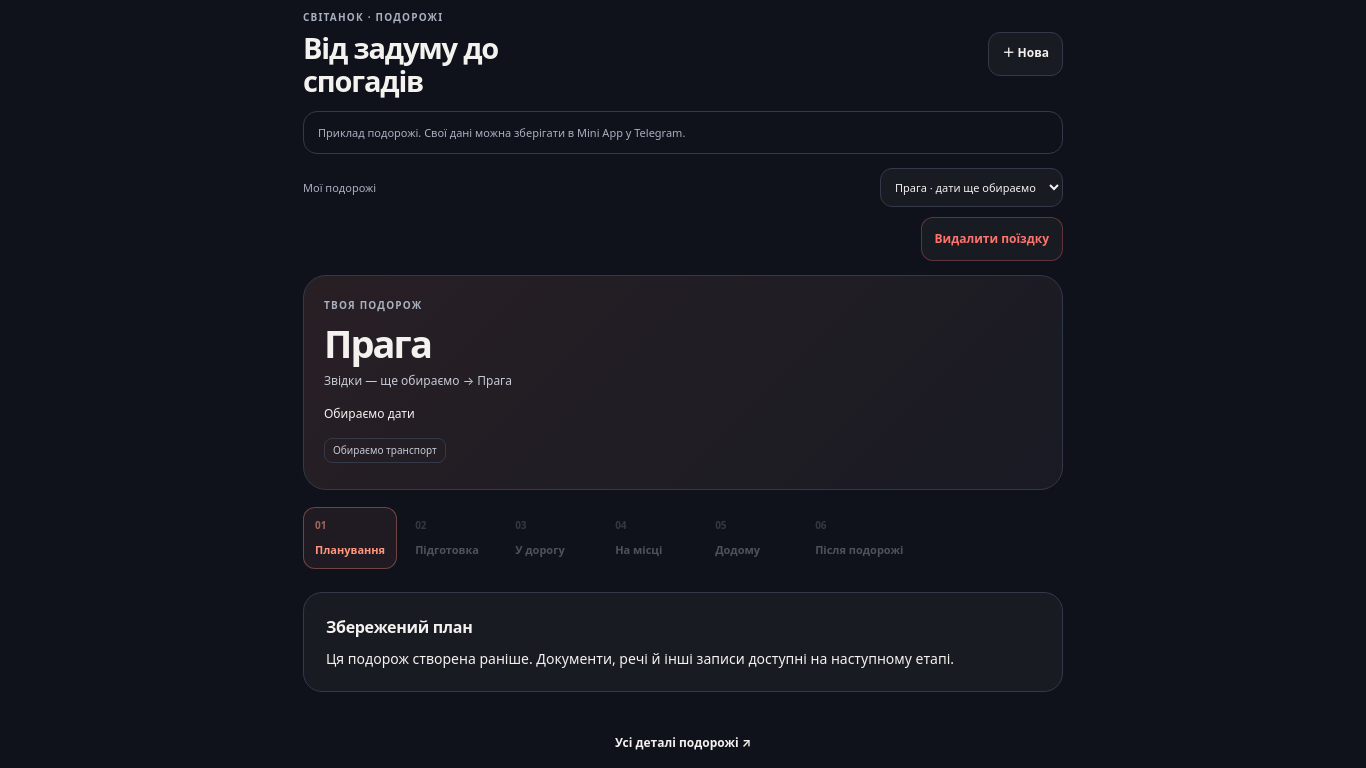
Scenario: deleting a trip from Mini App › requires confirmation, leaves a draft when dismissed and deletes it when confirmed
Click the button "Видалити поїздку": (992, 239) left=920, top=217, right=1063, bottom=261
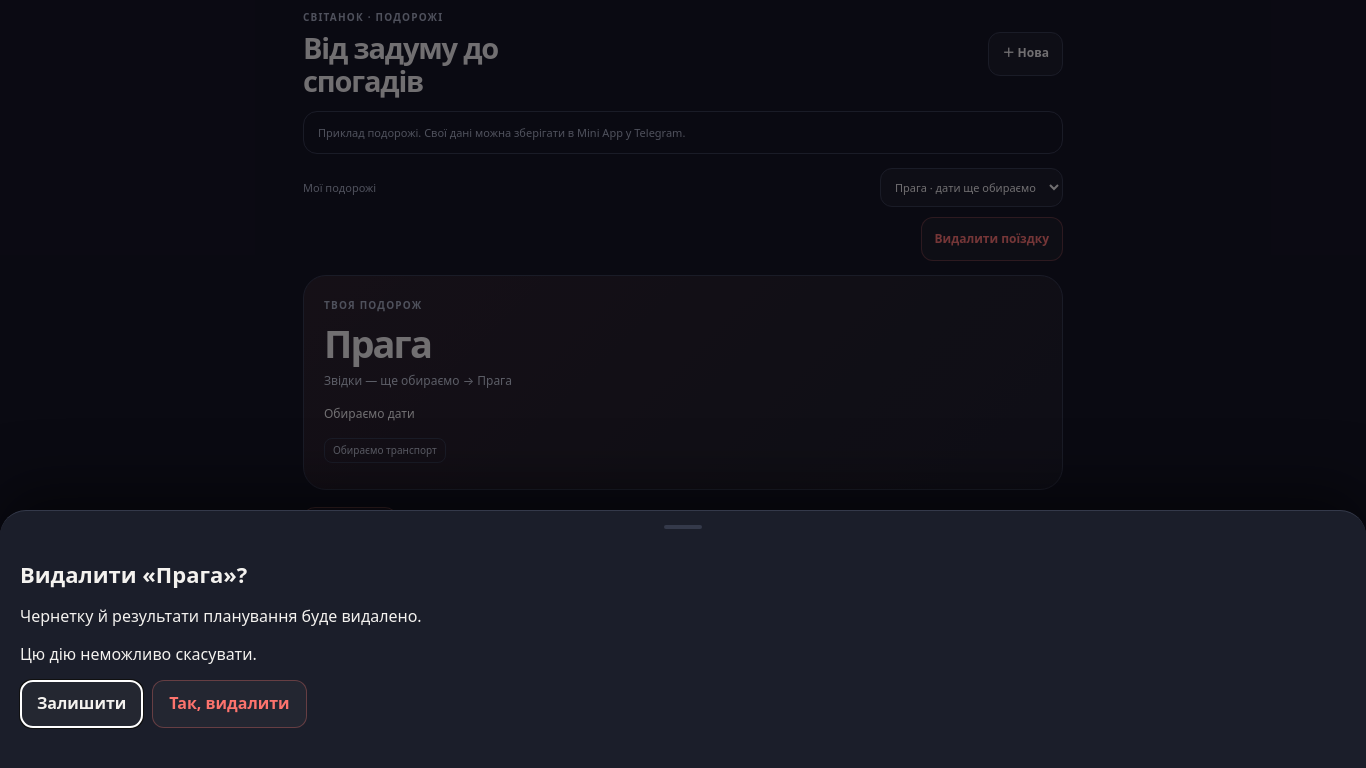
Expected: the dialog named "Видалення поїздки" shows "Видалити «Прага»?", left=0, top=510, right=1365, bottom=767
Click the button "Залишити": (82, 704) left=20, top=680, right=143, bottom=728
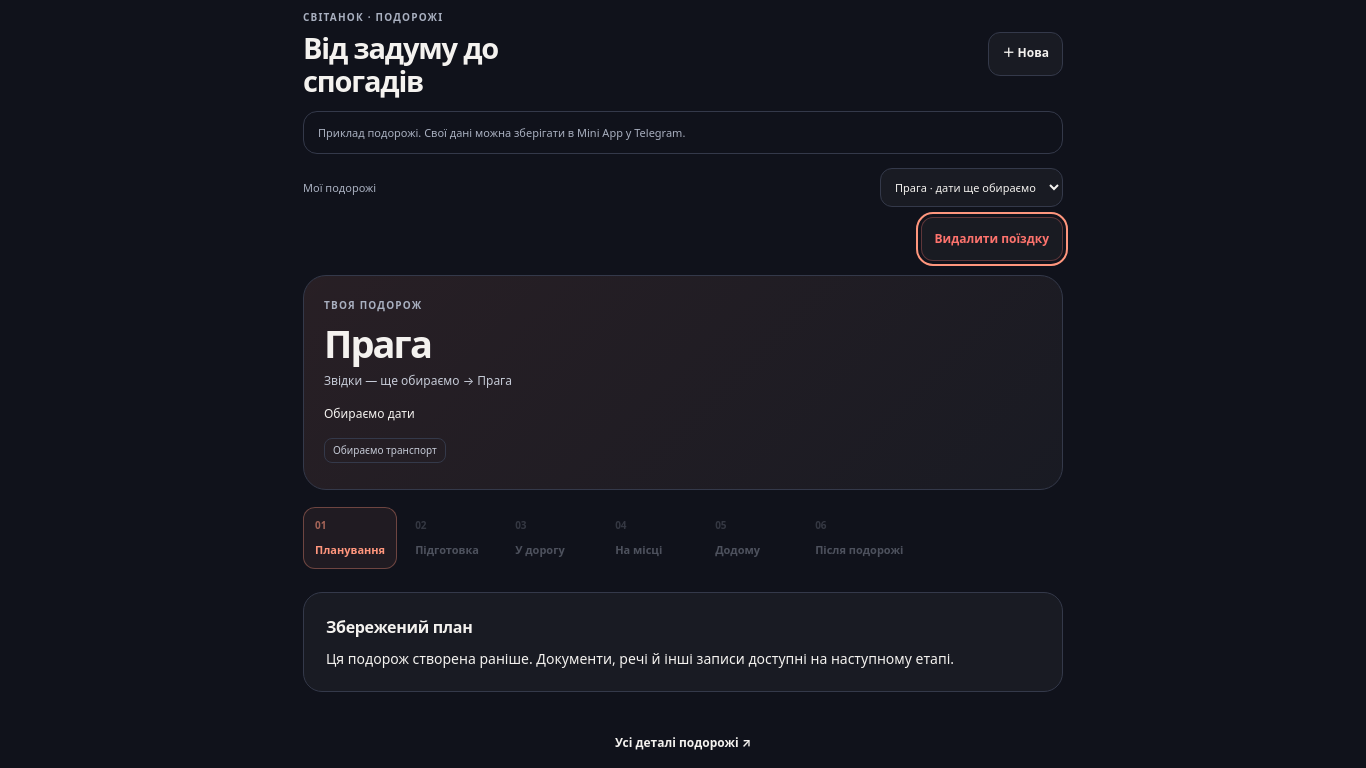
Expected: the dialog is gone
Click the button "Видалити поїздку": (992, 239) left=920, top=217, right=1063, bottom=261
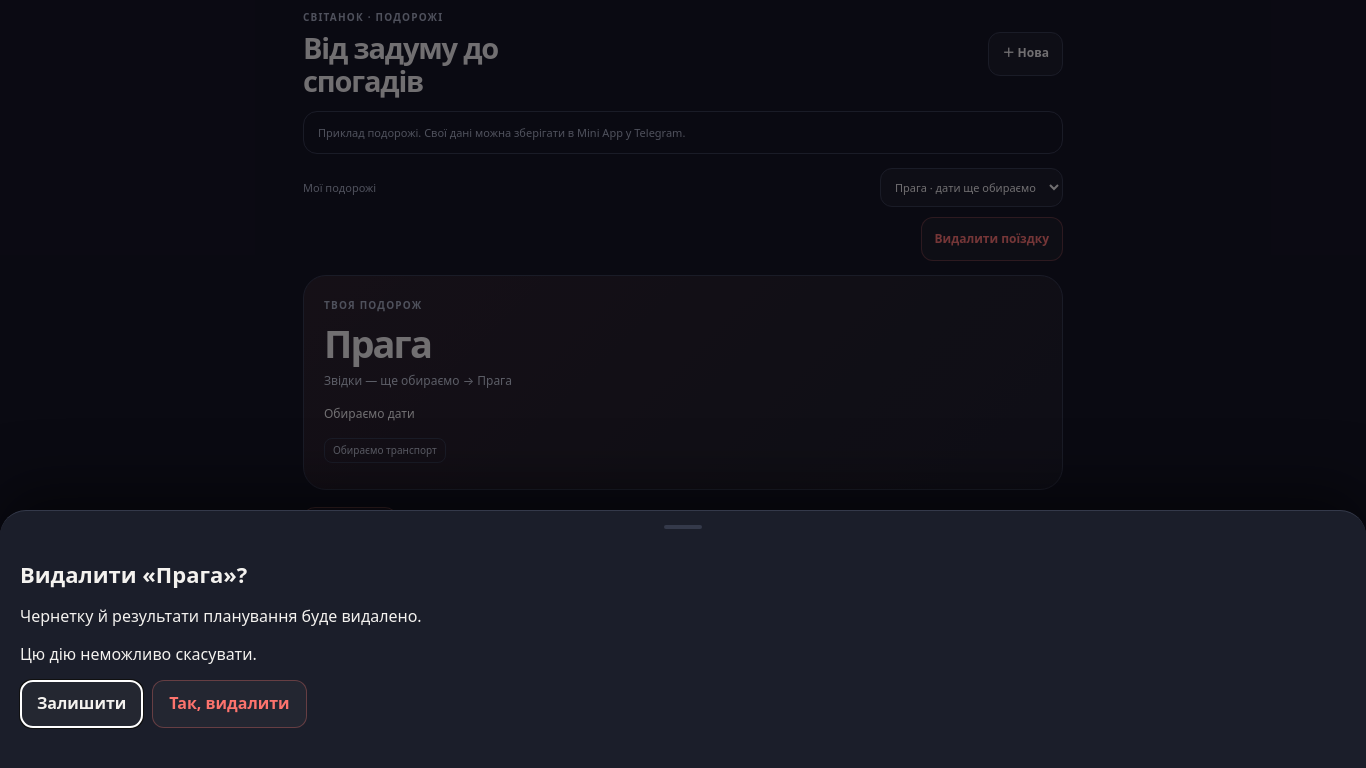
Click the button "Так, видалити": (230, 704) left=152, top=680, right=307, bottom=728
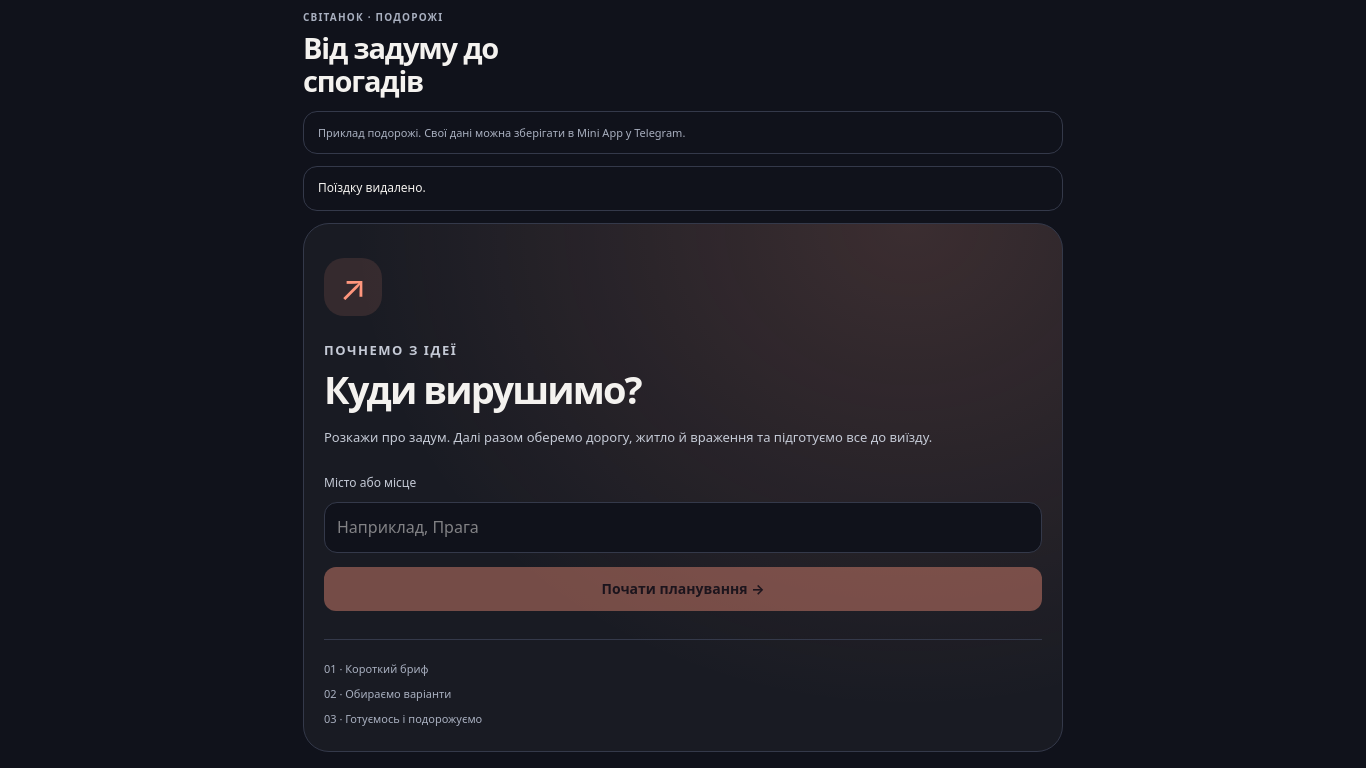
Expected: the text "Поїздку видалено." is shown, left=303, top=166, right=1063, bottom=211
Expected: the field labelled "Місто або місце" is shown, left=324, top=502, right=1042, bottom=553
